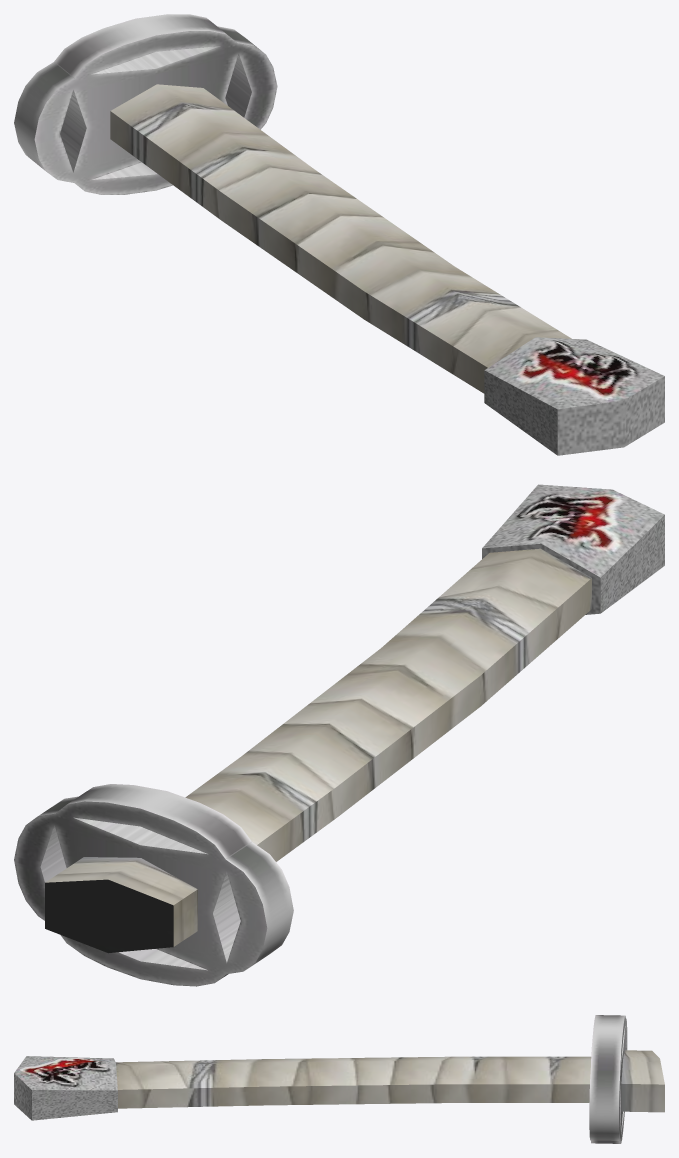
The model's file is sword_boro_comike_boro_comike.glb.
3 renders of one model, top to bottom at view 1: azimuth 30°, elevation 25°; view 2: azimuth 150°, elevation 25°; view 3: azimuth 270°, elevation 25°, orthographic. The views are drawn at different scales.
Bounding box in the file's own units: 0.1249 × 0.0777 × 0.4452.
Materials: 1 (1 with a texture image).
